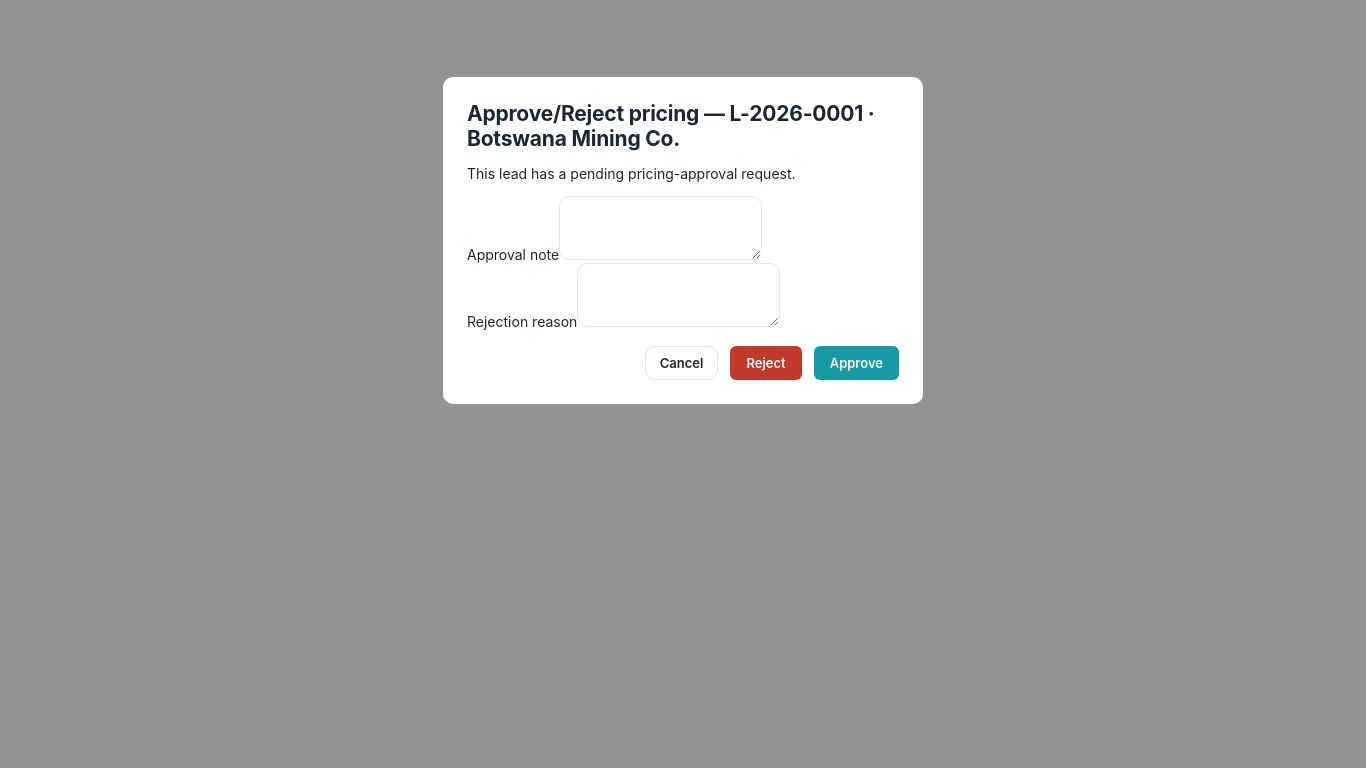
Scenario: ApproveRejectPricingDialog › click_WhenRejectedWithoutReason_ShouldShowInlineErrorAndNotReject
Click the button with test id "dialog-danger-button" at (766, 363), box [730,346,802,380]
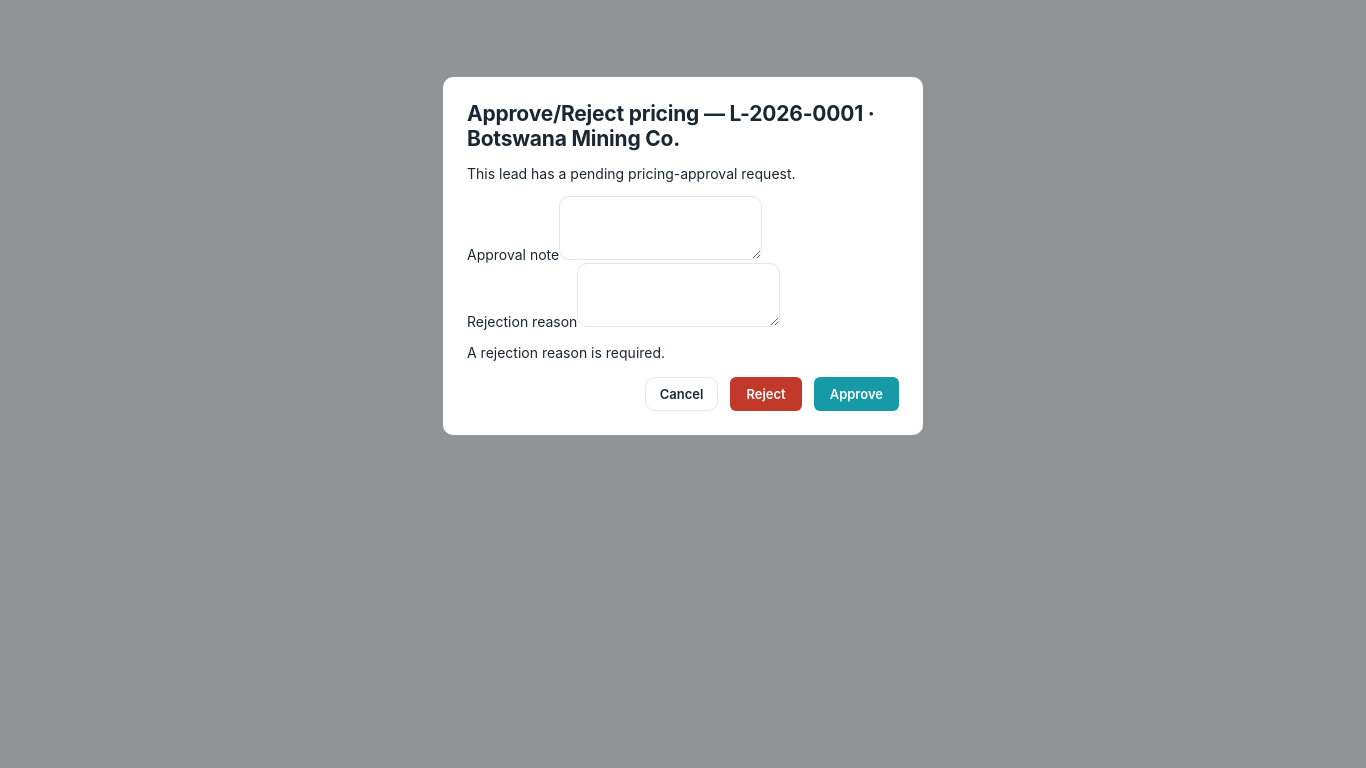
expect the message with test id "field-error" reads "A rejection reason is required.": met, box [467,344,665,361]
